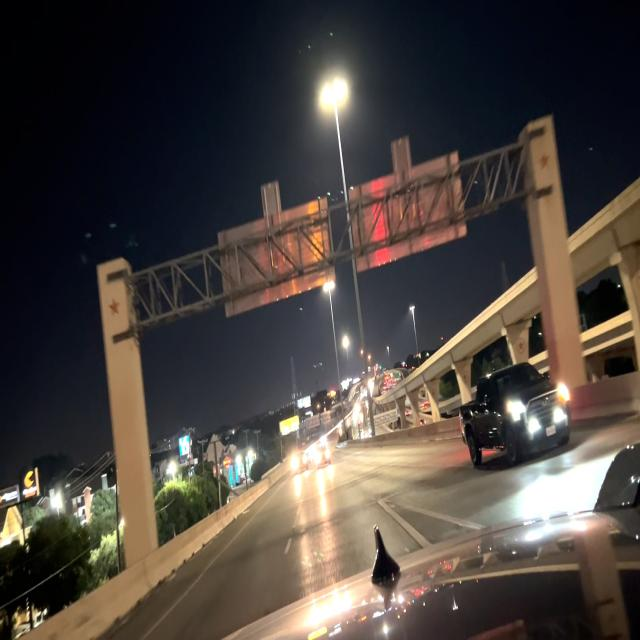back-of-sign: (349, 138, 468, 274), (219, 181, 335, 318), (206, 435, 225, 468)
